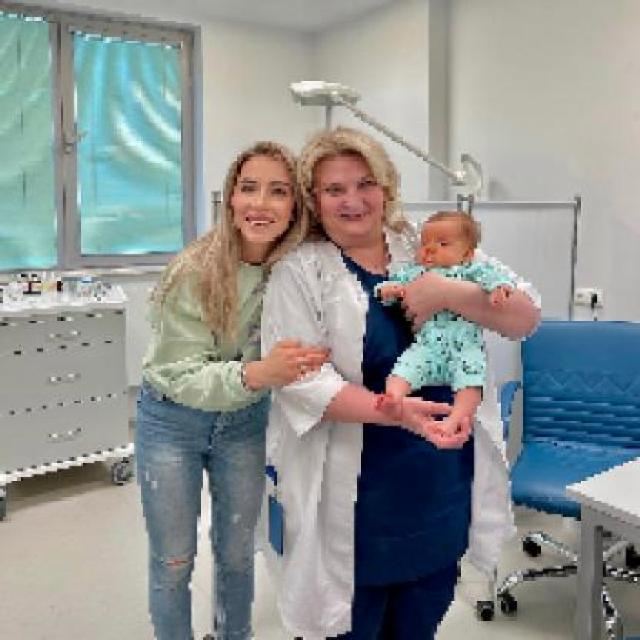adult: (259, 127, 542, 640), (138, 140, 332, 640)
child: (372, 209, 518, 440)
